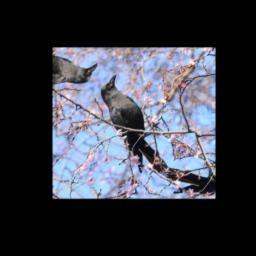Crow: (69, 72, 198, 182)
